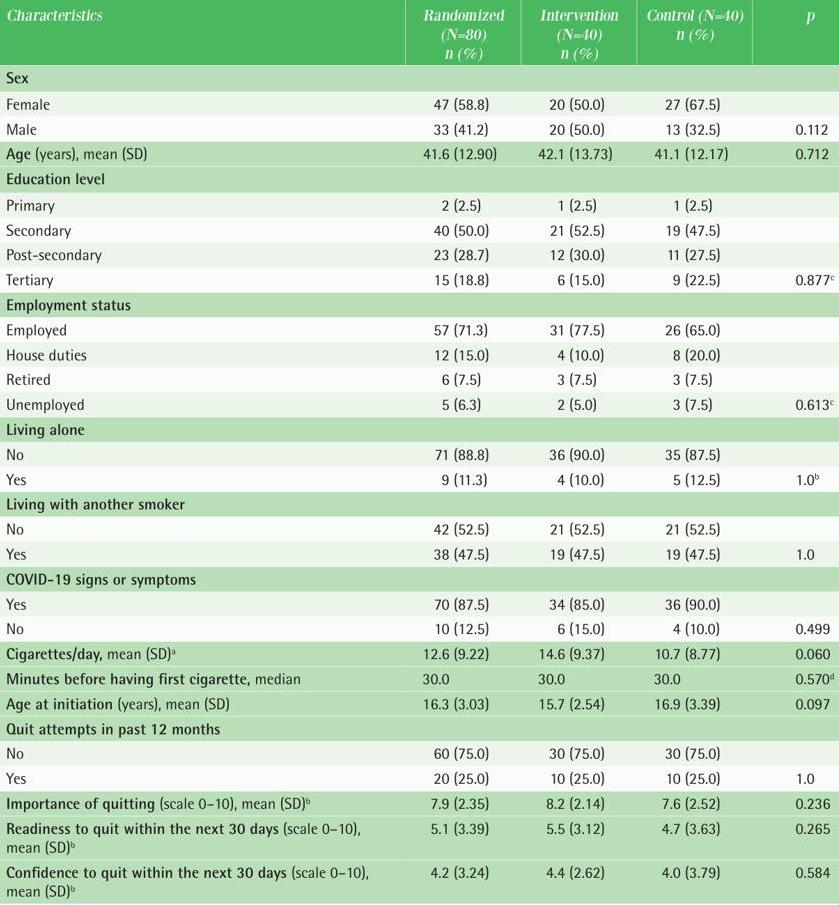table: (4, 5, 833, 899)
table column: (4, 5, 394, 899), (632, 5, 769, 899), (394, 5, 521, 899), (521, 5, 632, 899), (769, 5, 833, 899)
table column header: (4, 5, 833, 64)
table projected row header: (4, 64, 833, 90), (4, 165, 833, 191), (4, 490, 833, 516), (4, 291, 833, 316), (4, 416, 833, 441), (4, 565, 833, 590), (4, 715, 833, 740)
table row: (4, 5, 833, 64), (4, 815, 833, 858), (4, 858, 833, 899), (4, 64, 833, 90), (4, 165, 833, 191), (4, 490, 833, 516), (4, 90, 833, 115), (4, 115, 833, 140), (4, 140, 833, 165), (4, 191, 833, 216), (4, 216, 833, 241), (4, 241, 833, 266), (4, 266, 833, 291), (4, 291, 833, 316), (4, 316, 833, 341), (4, 341, 833, 366), (4, 366, 833, 391), (4, 391, 833, 416), (4, 416, 833, 441), (4, 441, 833, 466), (4, 540, 833, 565), (4, 565, 833, 590), (4, 590, 833, 615), (4, 615, 833, 640), (4, 640, 833, 665), (4, 665, 833, 690), (4, 690, 833, 715), (4, 715, 833, 740), (4, 740, 833, 765), (4, 765, 833, 790), (4, 790, 833, 815), (4, 466, 833, 490), (4, 516, 833, 540)
